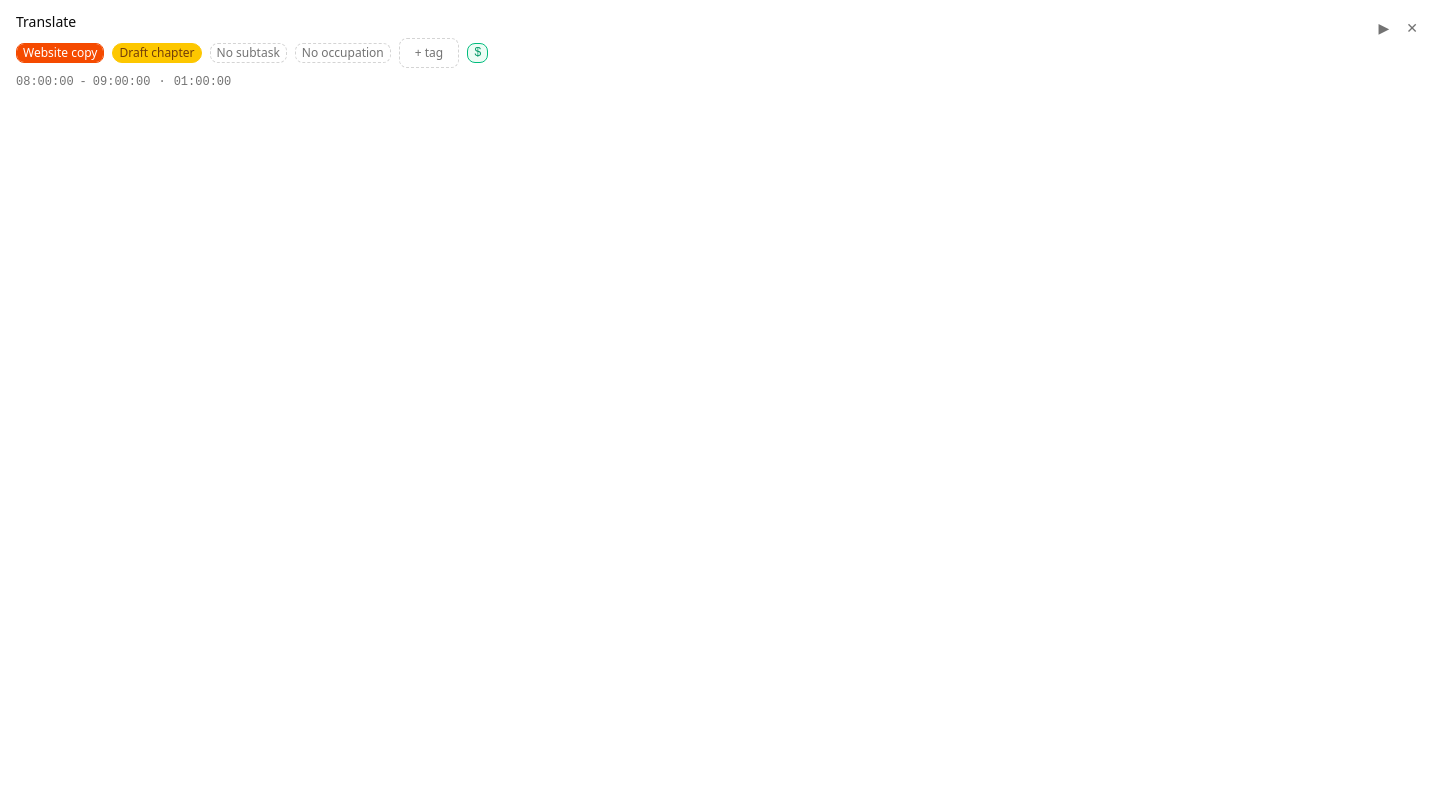
Test: TtcEntryRow › shows the linked task as a badge, and clicking it opens the task picker
Expected: the text titled "Edit task" reads "Draft chapter", [119,44,194,61]
What coordinates should you click on to do the following:
click the text titled "Edit task"
I would click on:
 (157, 53)
Its box is [112,43,202,63].
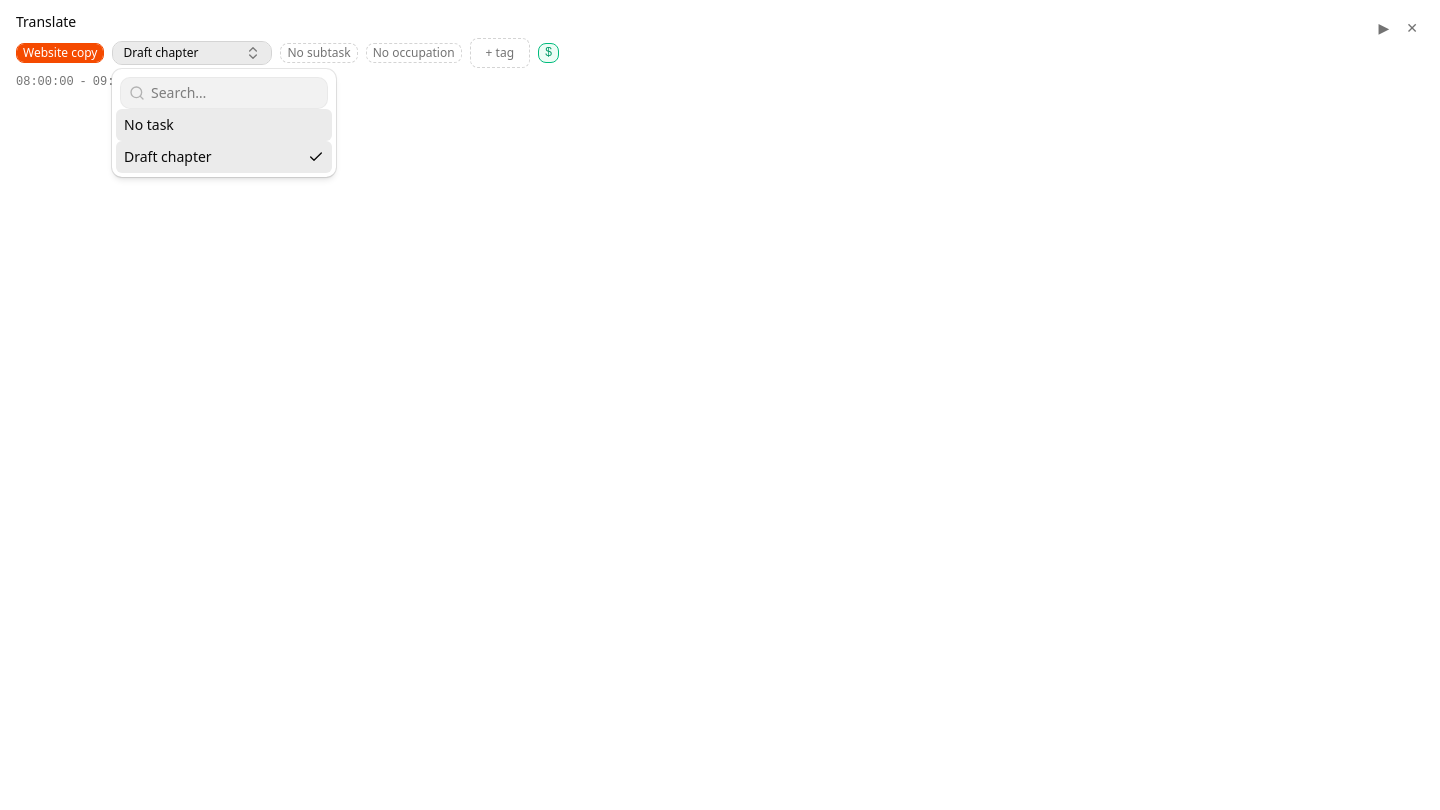
Expected: the option "No task" is shown, [116,109,332,141]
